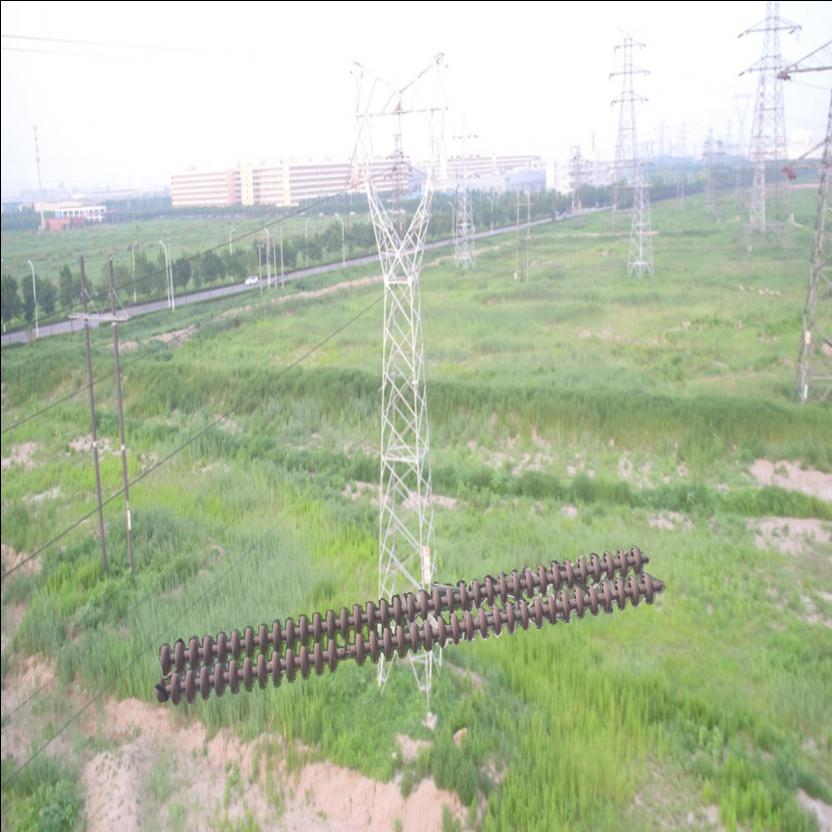defect: (322, 629, 366, 671)
